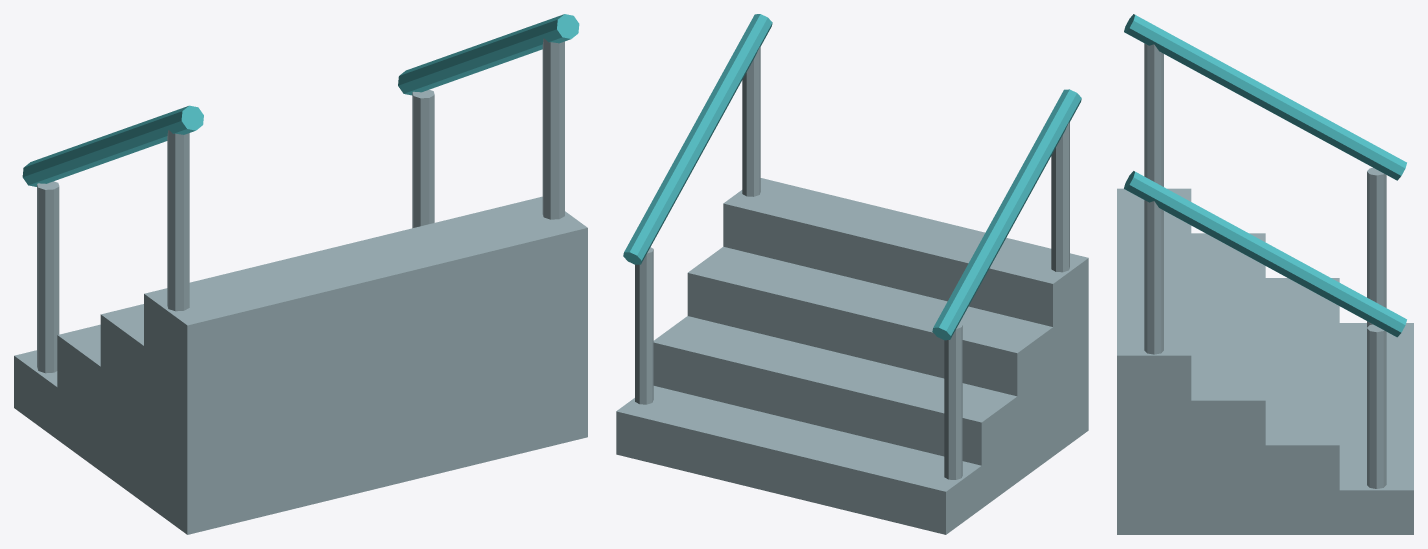
Rendered from orbital-field-station-platform-access-stairs__144.glb.
3 views of the same model, side by side, from view 1: azimuth 30°, elevation 25°; view 2: azimuth 150°, elevation 25°; view 3: azimuth 270°, elevation 25° (orthographic). The views are drawn at different scales.
Parts seen in each view (by area): view 1: metal, accent; view 2: metal, accent; view 3: metal, accent.
Part boxes in pixels (bbox=[...]): metal: bbox=[14, 38, 587, 534]; accent: bbox=[22, 14, 579, 186]; metal: bbox=[616, 47, 1088, 534]; accent: bbox=[623, 14, 1081, 340]; metal: bbox=[1117, 43, 1413, 534]; accent: bbox=[1124, 14, 1406, 337].
Bounding box in the file's own units: 1.6 × 1.6 × 1.2.
